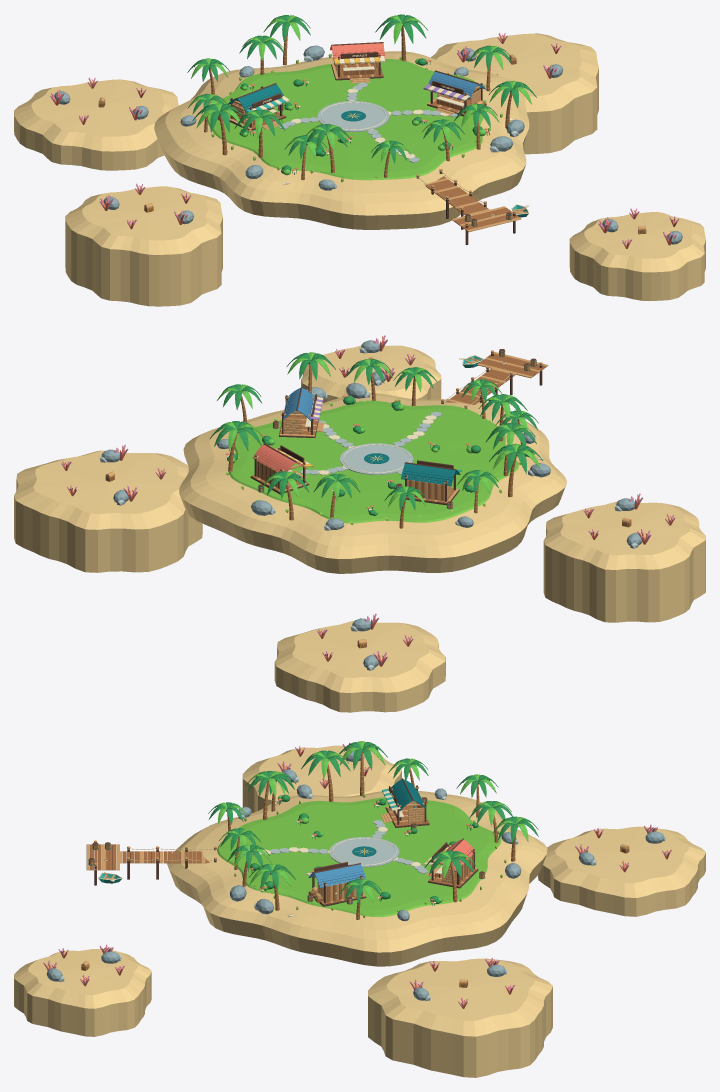
The model's file is SuckTheSea_Studio.fbx.
3 views of the same model, one above another, from view 1: azimuth 30°, elevation 25°; view 2: azimuth 150°, elevation 25°; view 3: azimuth 270°, elevation 25° (orthographic). The views are drawn at different scales.
Visible parts, largest first — view 1: StarterIsland__GoldenShore, UnderwaterTerrain__Sandbank_1, StarterIsland__Meadow, UnderwaterTerrain__Sandbank_4, UnderwaterTerrain__Sandbank_2, UnderwaterTerrain__Sandbank_3, Buildings__UpgradeShop, Buildings__TreasureShop, StarterIsland__Plaza, Buildings__StrawShop, Ocean__PierBoard, StarterIsland__PathStone (+14 smaller); view 2: StarterIsland__GoldenShore, UnderwaterTerrain__Sandbank_2, StarterIsland__Meadow, UnderwaterTerrain__Sandbank_1, UnderwaterTerrain__Sandbank_4, UnderwaterTerrain__Sandbank_3, Buildings__StrawShop, Buildings__TreasureShop, StarterIsland__Plaza, Buildings__UpgradeShop, StarterIsland__PathStone, Decorations__Palm_12 (+11 smaller); view 3: StarterIsland__GoldenShore, UnderwaterTerrain__Sandbank_2, StarterIsland__Meadow, UnderwaterTerrain__Sandbank_4, UnderwaterTerrain__Sandbank_3, UnderwaterTerrain__Sandbank_1, Buildings__StrawShop, Buildings__TreasureShop, StarterIsland__Plaza, Buildings__UpgradeShop, Ocean__PierBoard, Decorations__Palm_08 (+11 smaller).
Part boxes in pixels (x1,y1,x2,y2): StarterIsland__GoldenShore: (154,51,529,229); UnderwaterTerrain__Sandbank_1: (65,186,222,306); StarterIsland__Meadow: (207,59,483,180); UnderwaterTerrain__Sandbank_4: (14,79,178,170); UnderwaterTerrain__Sandbank_2: (430,33,598,154); UnderwaterTerrain__Sandbank_3: (569,211,705,300); Buildings__UpgradeShop: (330,42,385,83); Buildings__TreasureShop: (423,70,486,116); StarterIsland__Plaza: (317,101,389,131); Buildings__StrawShop: (228,83,289,131); Ocean__PierBoard: (424,176,489,214); StarterIsland__PathStone: (279,82,457,162); StarterIsland__GoldenShore: (179,393,566,573); UnderwaterTerrain__Sandbank_2: (14,450,202,572); StarterIsland__Meadow: (229,400,518,523); UnderwaterTerrain__Sandbank_1: (543,501,705,622); UnderwaterTerrain__Sandbank_4: (274,620,445,712); UnderwaterTerrain__Sandbank_3: (301,345,441,402); Buildings__StrawShop: (401,460,461,505); Buildings__TreasureShop: (279,386,326,437); StarterIsland__Plaza: (340,443,413,474); Buildings__UpgradeShop: (250,443,312,494); StarterIsland__PathStone: (300,412,441,481); Decorations__Palm_12: (489,443,543,497); StarterIsland__GoldenShore: (167,790,547,966); UnderwaterTerrain__Sandbank_2: (368,958,552,1077); StarterIsland__Meadow: (217,797,501,916); UnderwaterTerrain__Sandbank_4: (538,826,705,916); UnderwaterTerrain__Sandbank_3: (14,949,151,1036); UnderwaterTerrain__Sandbank_1: (242,745,401,813); Buildings__StrawShop: (380,778,429,827); Buildings__TreasureShop: (306,862,366,906); StarterIsland__Plaza: (329,837,399,867); Buildings__UpgradeShop: (424,838,478,888); Ocean__PierBoard: (118,851,210,863); Decorations__Palm_08: (424,850,476,902).
Size of the model in its own units: 321 by 68.22 by 335.
1 material, 1 textured.
